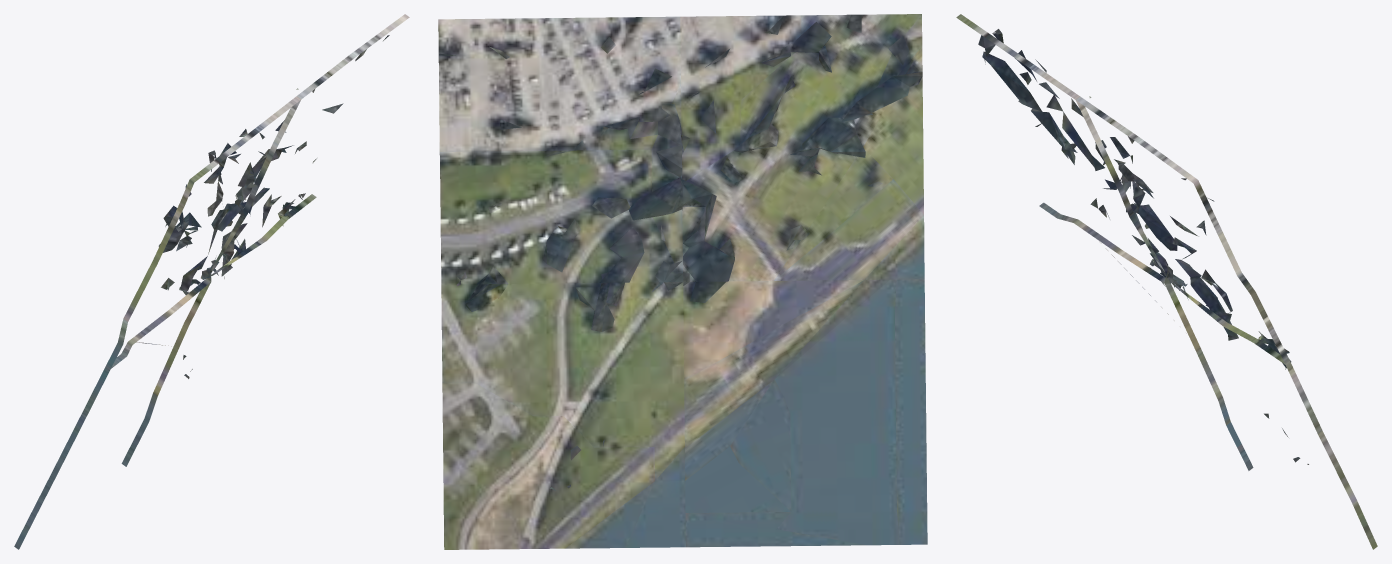
3 renders of one model, left to right at view 1: azimuth 30°, elevation 25°; view 2: azimuth 150°, elevation 25°; view 3: azimuth 270°, elevation 25°, orthographic. The views are drawn at different scales.
Bounding box in the file's own units: 303 × 283 × 256.
Materials: 1 (1 with a texture image).
